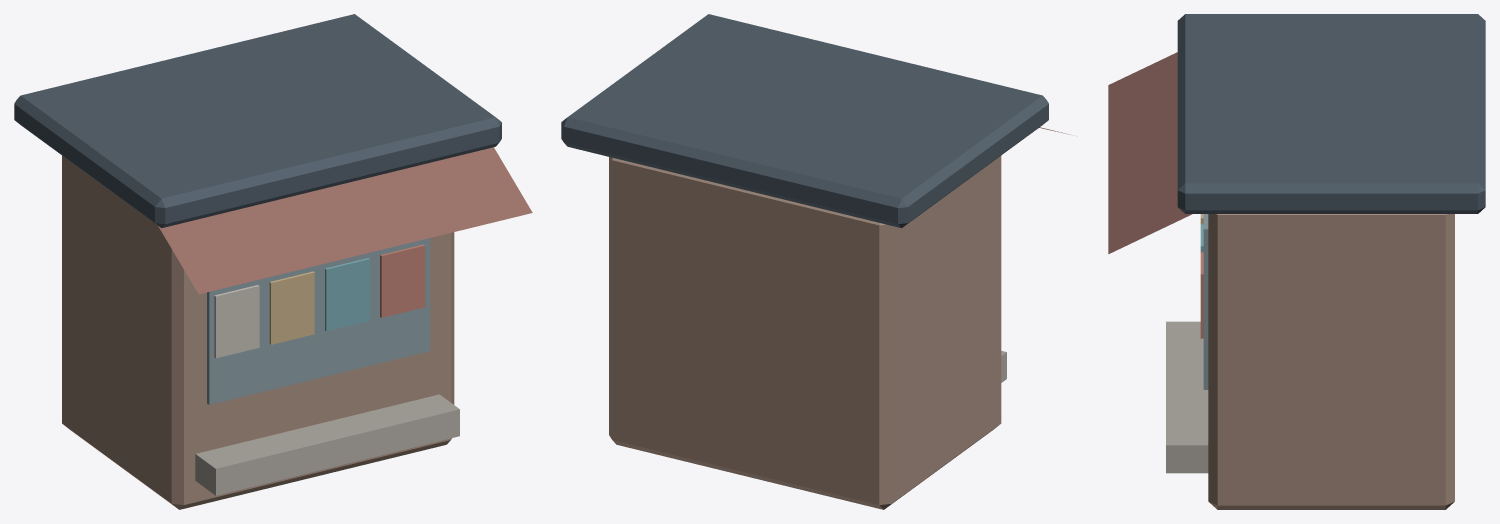
Rendered from escenario_news_kiosk.glb.
3 renders of one model, left to right at view 1: azimuth 30°, elevation 25°; view 2: azimuth 150°, elevation 25°; view 3: azimuth 270°, elevation 25°, orthographic. The views are drawn at different scales.
Bounding box in the file's own units: 2.7 × 2.46 × 2.45.
